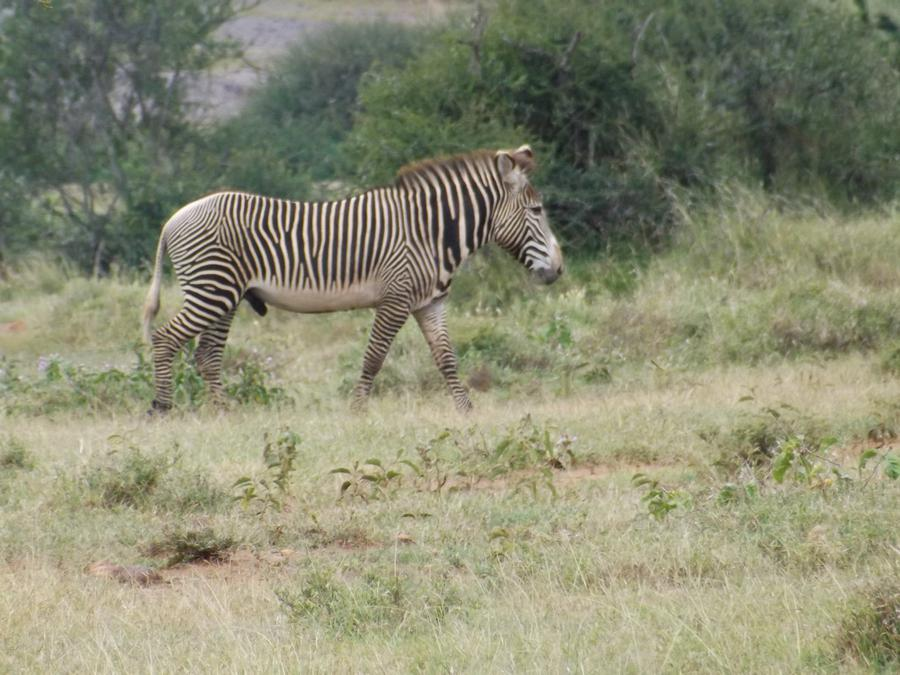zebra_grevys: (166, 180, 443, 301)
